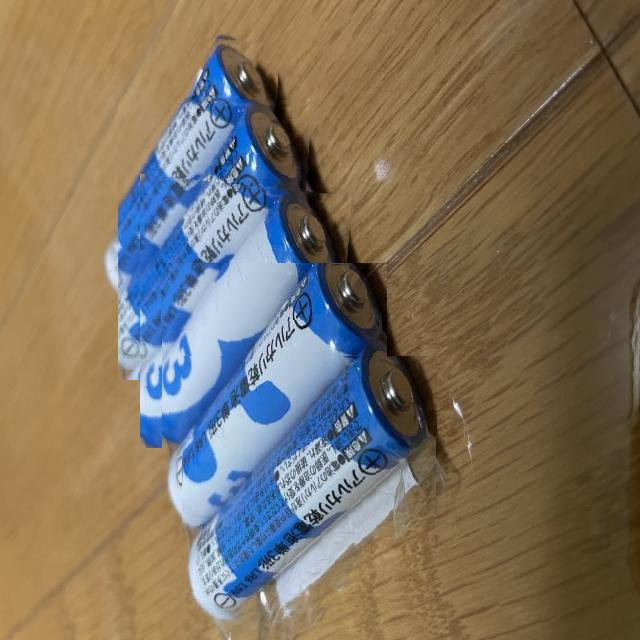battery: (182, 356, 438, 618), (161, 263, 387, 537), (140, 174, 352, 448), (118, 94, 313, 380), (96, 30, 278, 304)
